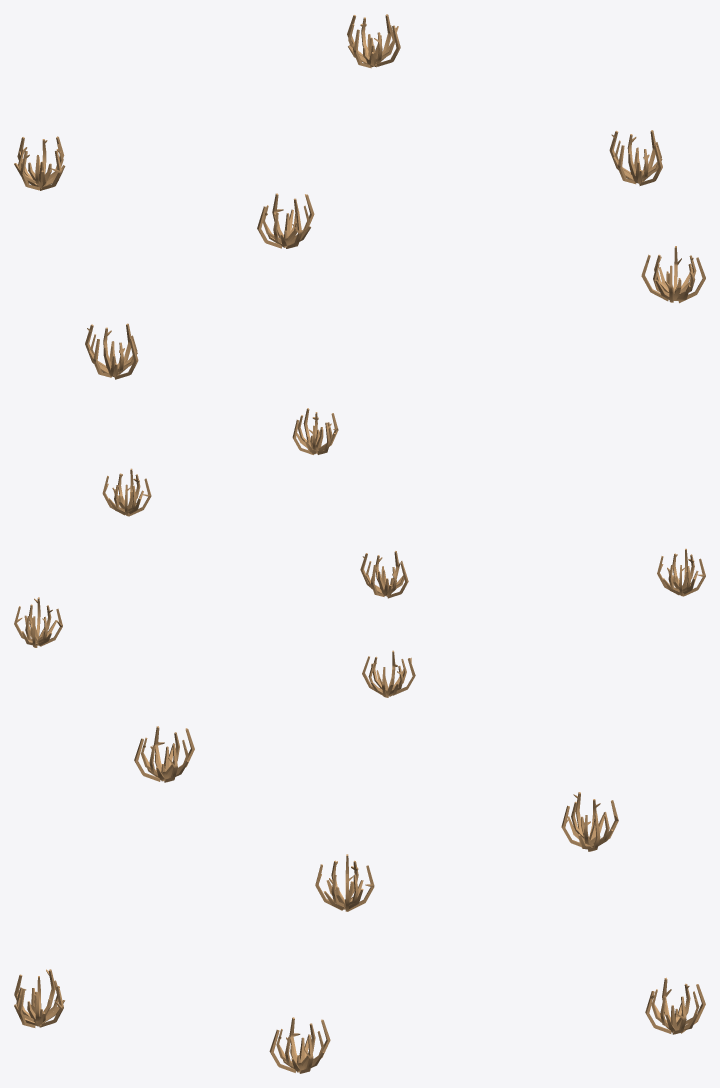
The model's file is TumbleWeedGroup.fbx.
3 renders of one model, top to bottom at view 1: azimuth 30°, elevation 25°; view 2: azimuth 150°, elevation 25°; view 3: azimuth 270°, elevation 25°, orthographic. The views are drawn at different scales.
Parts seen in each view (by area): view 1: TumbleWeedGroup; view 2: TumbleWeedGroup; view 3: TumbleWeedGroup.
Boxes of the visible parts, bbox=[...] form: TumbleWeedGroup: bbox=[14, 14, 705, 379]; TumbleWeedGroup: bbox=[14, 408, 705, 697]; TumbleWeedGroup: bbox=[14, 726, 705, 1073].
Size of the model in its own units: 117 by 8.23 by 109.
1 material, 1 textured.
